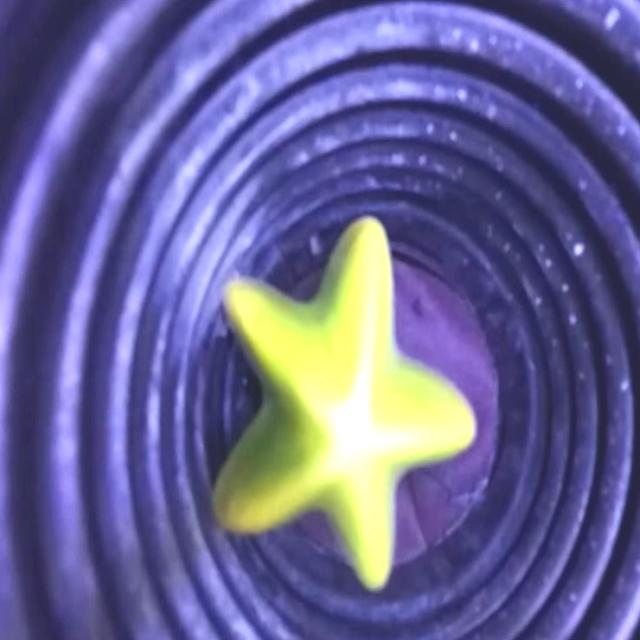obstacles: (210, 214, 472, 587)
